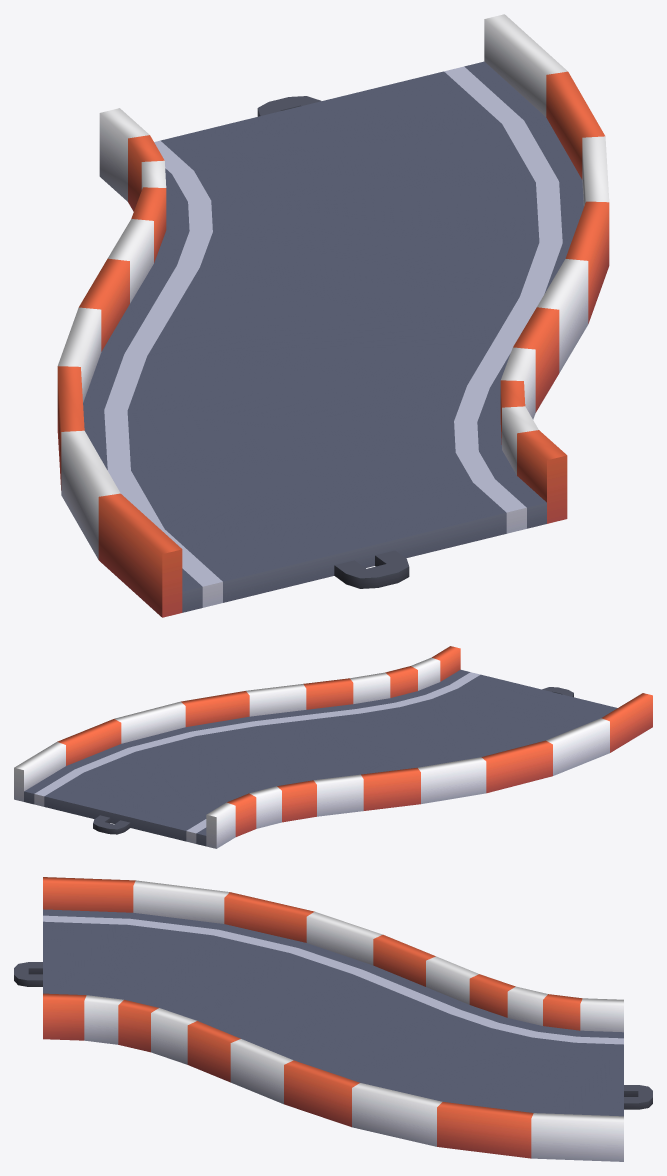
Rendered from track-road-wide-curve.glb.
3 views of the same model, one above another, from view 1: azimuth 30°, elevation 25°; view 2: azimuth 150°, elevation 25°; view 3: azimuth 270°, elevation 25° (orthographic). The views are drawn at different scales.
Parts seen in each view (by area): view 1: track-road-wide-curve; view 2: track-road-wide-curve; view 3: track-road-wide-curve.
Part boxes in pixels (box(x1,y1,x2,y2)): track-road-wide-curve: box(57, 14, 609, 617); track-road-wide-curve: box(14, 646, 652, 848); track-road-wide-curve: box(14, 877, 652, 1161).
Bounding box in the file's own units: 4 × 0.3 × 4.4.
1 material, 1 textured.
